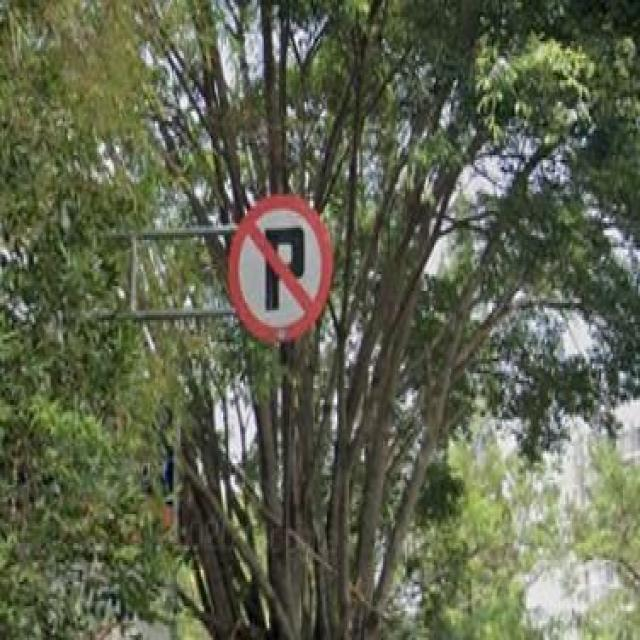traffic sign: (227, 192, 334, 340)
